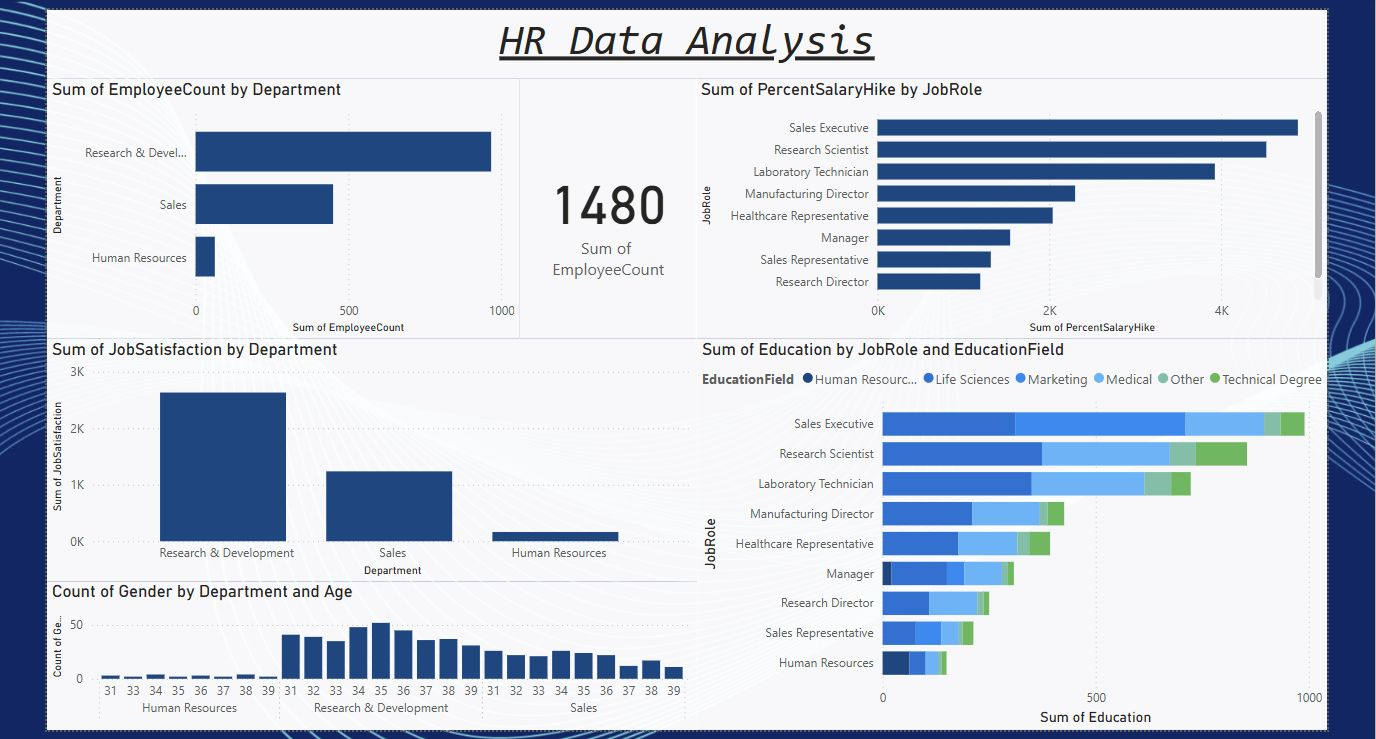

The page's visual inventory and layout, read from the dashboard file:
{"tool":"powerbi","page":{"name":"Page 1","canvas":[1280,720],"ordinal":0},"visuals":[{"type":"barChart","fields":{"Y":["Sum(HR_Analytics.EmployeeCount)"],"Category":["HR_Analytics.Department"]},"box":[0,68.8,472.5,260],"z":0},{"type":"card","fields":{"Values":["Sum(HR_Analytics.EmployeeCount)"]},"box":[472.5,68.8,177.5,260],"z":1000},{"type":"clusteredBarChart","fields":{"Y":["Sum(HR_Analytics.PercentSalaryHike)"],"Category":["HR_Analytics.JobRole"]},"box":[648.8,68.8,631.2,260],"z":2000},{"type":"barChart","fields":{"Category":["HR_Analytics.JobRole"],"Y":["Sum(HR_Analytics.Education)"],"Series":["HR_Analytics.EducationField"]},"box":[650,328.8,630,391.2],"z":3000},{"type":"clusteredColumnChart","fields":{"Y":["Sum(HR_Analytics.JobSatisfaction)"],"Category":["HR_Analytics.Department"]},"box":[0,328.8,650,242.5],"z":4000},{"type":"lineStackedColumnComboChart","fields":{"Y":["CountNonNull(HR_Analytics.Gender)"],"Category":["HR_Analytics.Department","HR_Analytics.Age"]},"box":[0,571.2,650,148.8],"z":5000},{"type":"textbox","box":[0,0,1280,68.8],"z":6000}]}

Visuals, with their boxes on the page's 1280x720 design canvas (x1, y1, x2, y2). These are canvas units, not pixel positions in the 1376x739 screenshot, which may show the page scaled, cropped or inside an application window:
barChart - Sum(HR_Analytics.EmployeeCount) x HR_Analytics.Department: <bbox>0, 69, 472, 329</bbox>
card - Sum(HR_Analytics.EmployeeCount): <bbox>472, 69, 650, 329</bbox>
clusteredBarChart - Sum(HR_Analytics.PercentSalaryHike) x HR_Analytics.JobRole: <bbox>649, 69, 1280, 329</bbox>
barChart - HR_Analytics.JobRole x Sum(HR_Analytics.Education): <bbox>650, 329, 1280, 720</bbox>
clusteredColumnChart - Sum(HR_Analytics.JobSatisfaction) x HR_Analytics.Department: <bbox>0, 329, 650, 571</bbox>
lineStackedColumnComboChart - CountNonNull(HR_Analytics.Gender) x HR_Analytics.Department: <bbox>0, 571, 650, 720</bbox>
textbox: <bbox>0, 0, 1280, 69</bbox>
